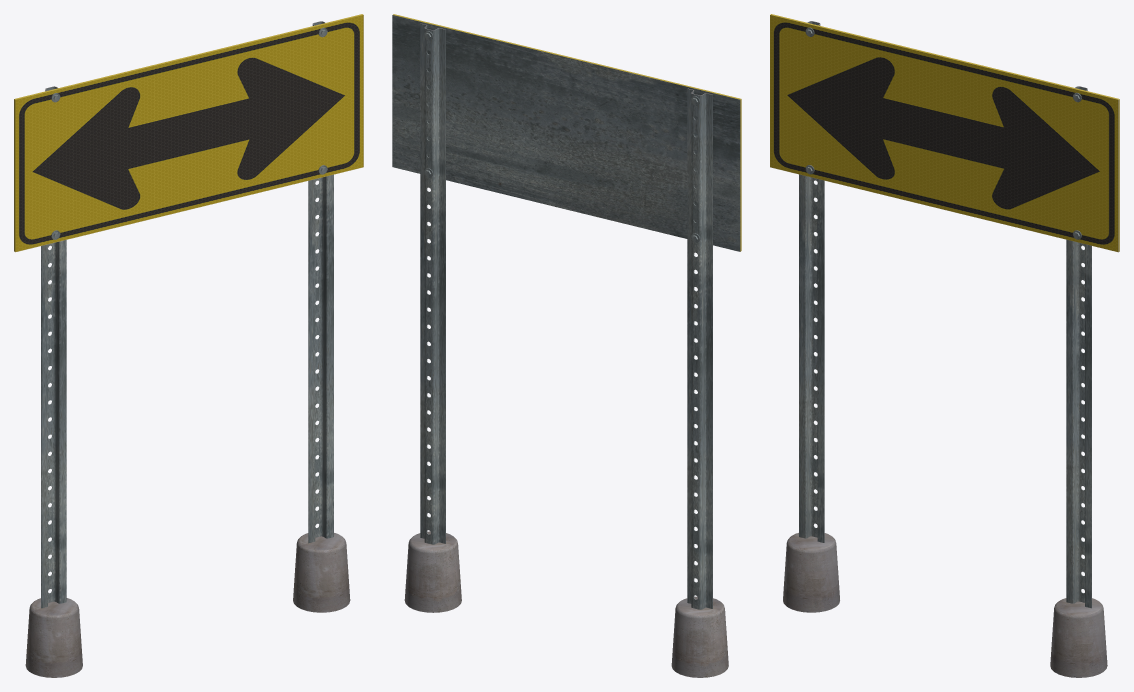
The model's file is arrow_nsoc.obj.
3 views of the same model, side by side, from view 1: azimuth 30°, elevation 25°; view 2: azimuth 150°, elevation 25°; view 3: azimuth 330°, elevation 25° (orthographic).
Visible parts, largest first — view 1: sign_arrow_b_alt; view 2: sign_arrow_b_alt; view 3: sign_arrow_b_alt.
Boxes of the visible parts, box(x1,y1,x2,y2) form: sign_arrow_b_alt: box(14, 14, 363, 677); sign_arrow_b_alt: box(392, 14, 741, 677); sign_arrow_b_alt: box(770, 14, 1119, 677).
Size of the model in its own units: 41.05 by 64.91 by 5.84.
3 materials, 3 textured.
